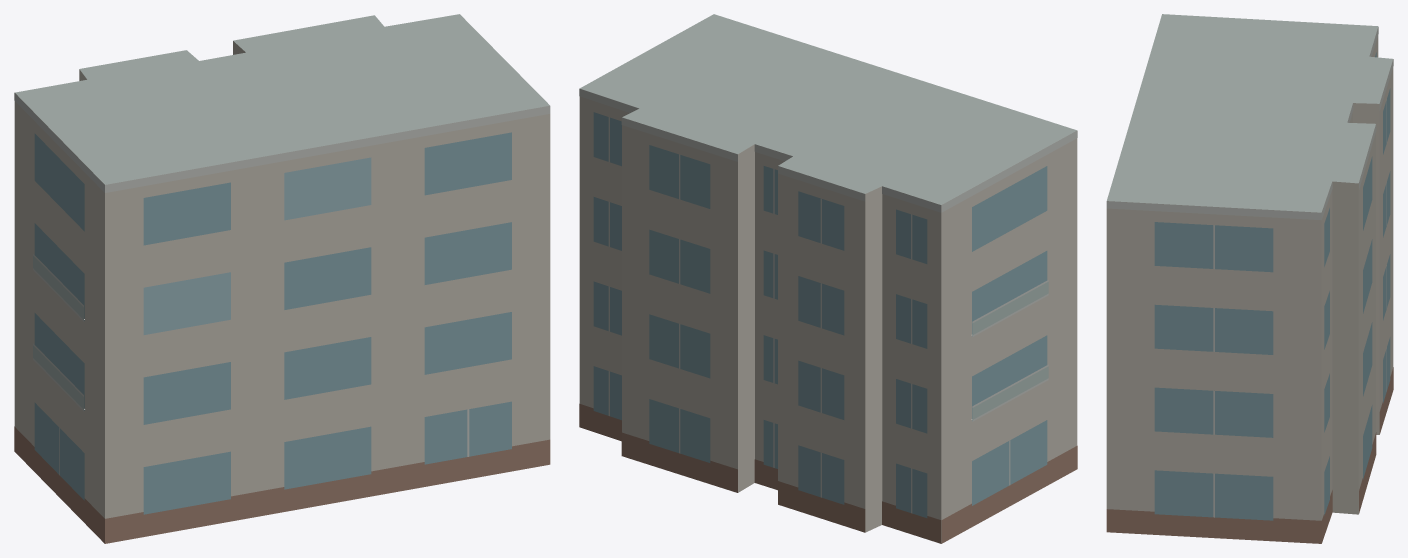
Rendered from survey-upis-32541428.glb.
3 views of the same model, side by side, from view 1: azimuth 30°, elevation 25°; view 2: azimuth 150°, elevation 25°; view 3: azimuth 270°, elevation 25° (orthographic). The views are drawn at different scales.
Parts seen in each view (by area): view 1: survey-upis-32541428.tmp; view 2: survey-upis-32541428.tmp; view 3: survey-upis-32541428.tmp.
Part boxes in pixels (x1,y1,x2,y2): survey-upis-32541428.tmp: [14, 14, 550, 543]; survey-upis-32541428.tmp: [579, 14, 1077, 543]; survey-upis-32541428.tmp: [1106, 14, 1393, 543].
Bounding box in the file's own units: 13.84 × 10.75 × 8.44.
